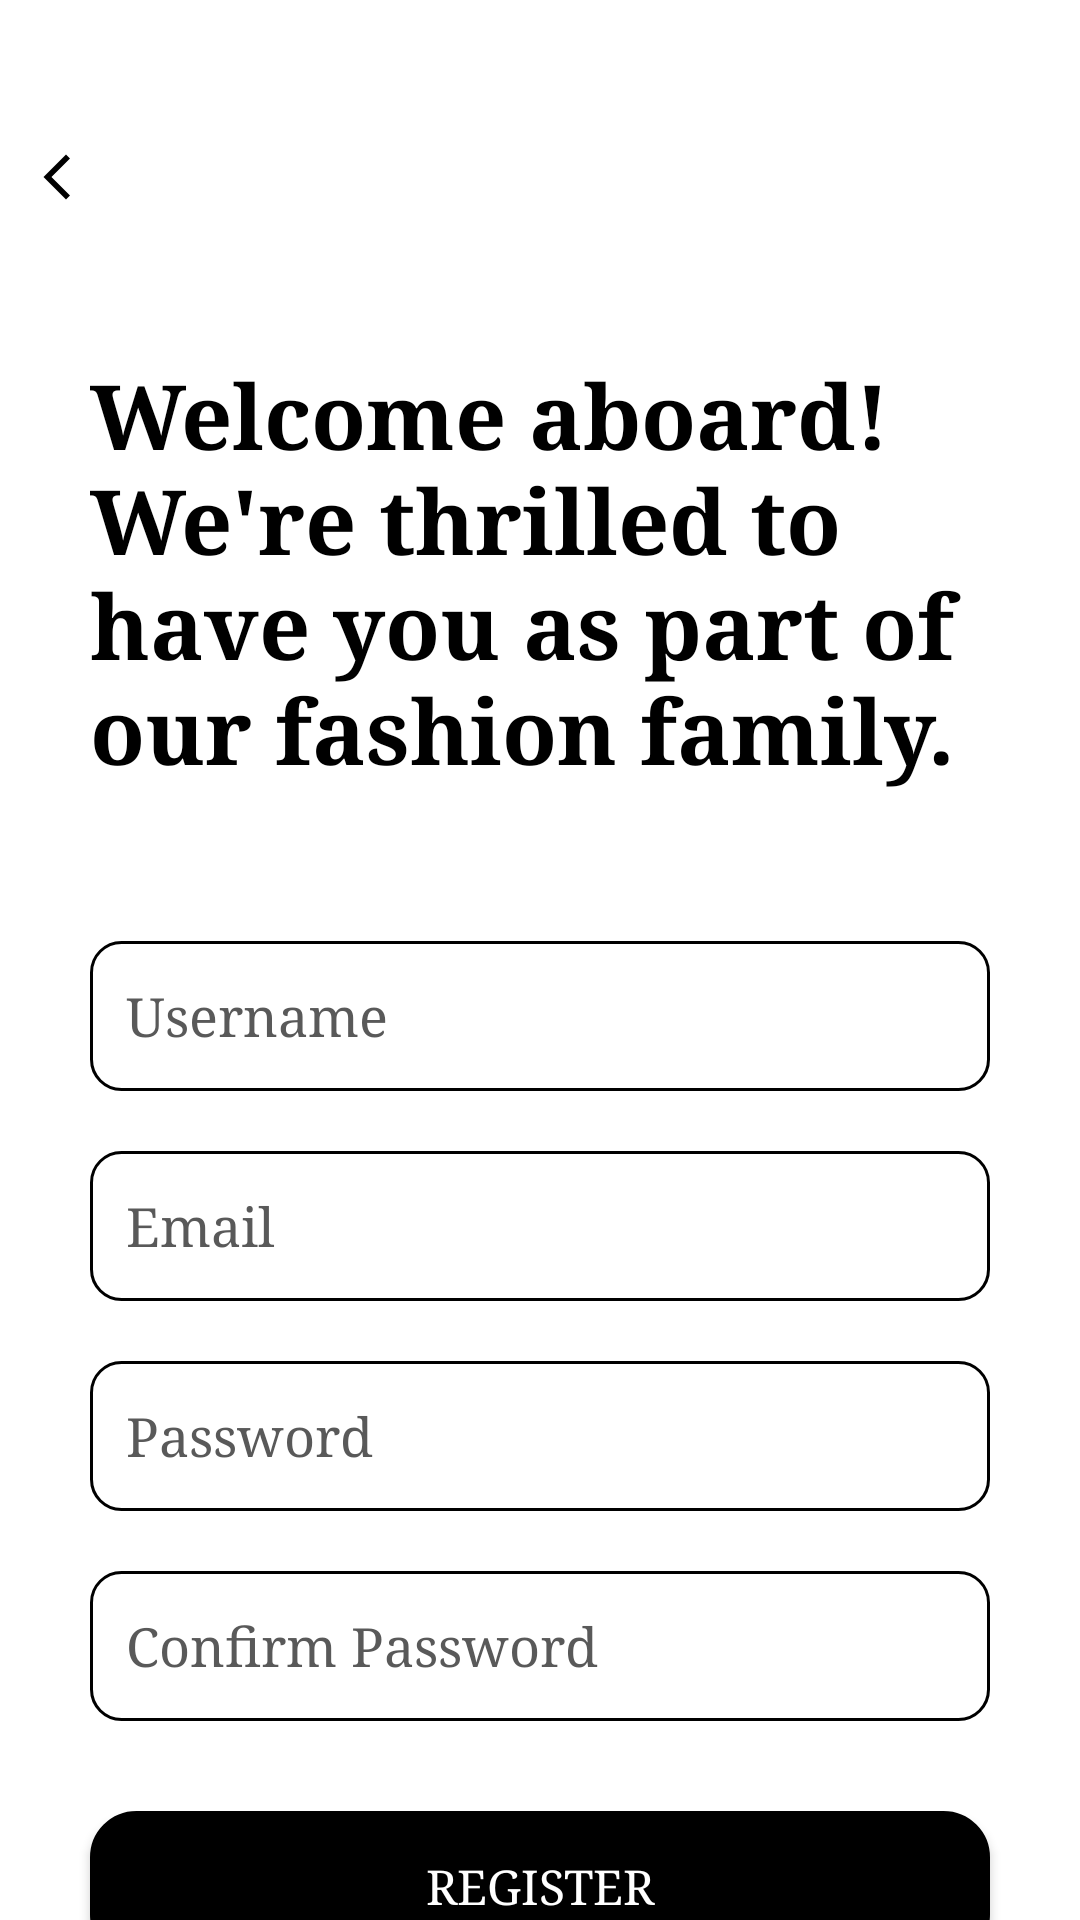

Named icons in this screenshot (1080px×1920px) and their centers, (x=x, y=y):
back: (x=56, y=177)
